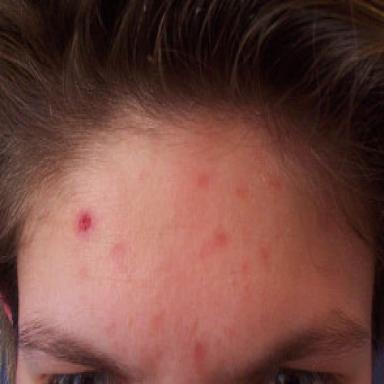acne: (77, 212, 92, 233), (195, 343, 204, 360)
